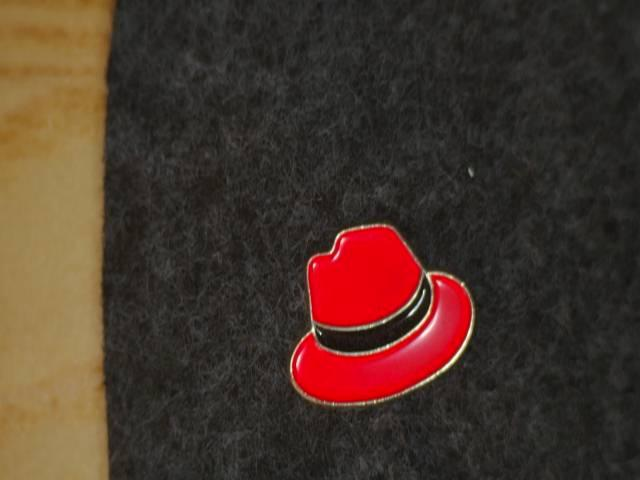Red-Hat: (263, 213, 531, 435)
